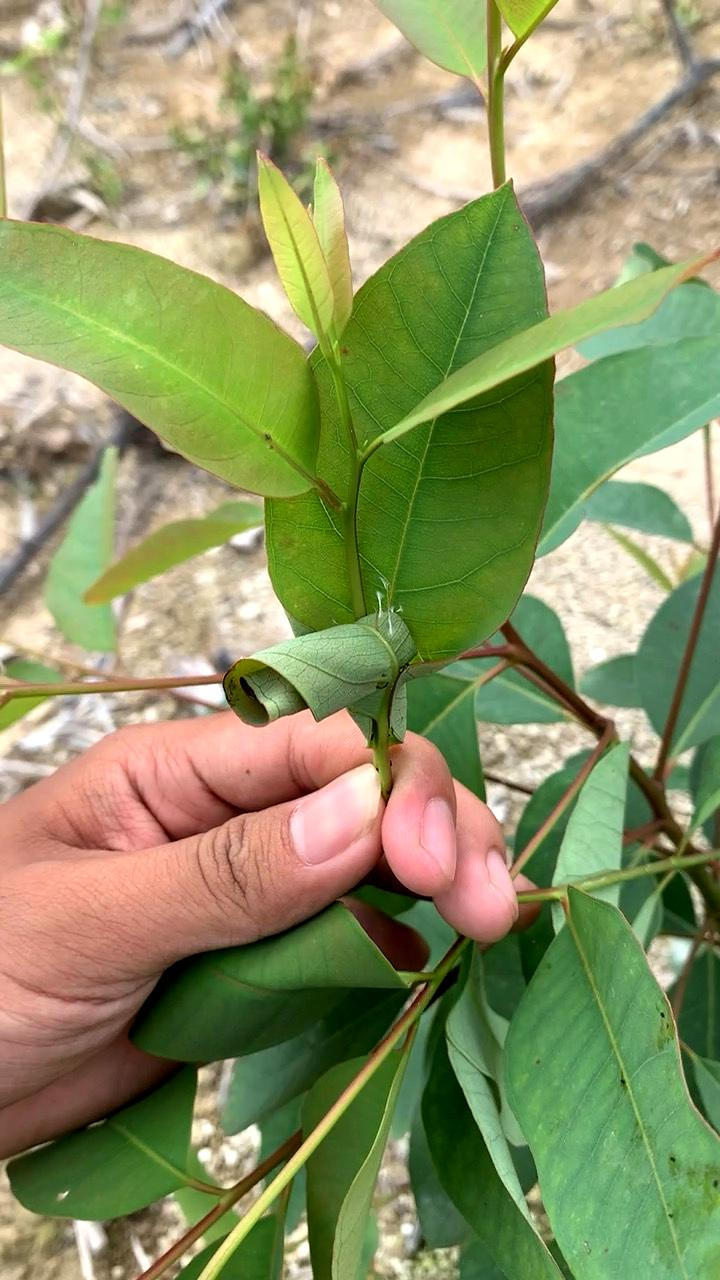Leaf Roller - Leaf: (179, 553, 478, 776)
